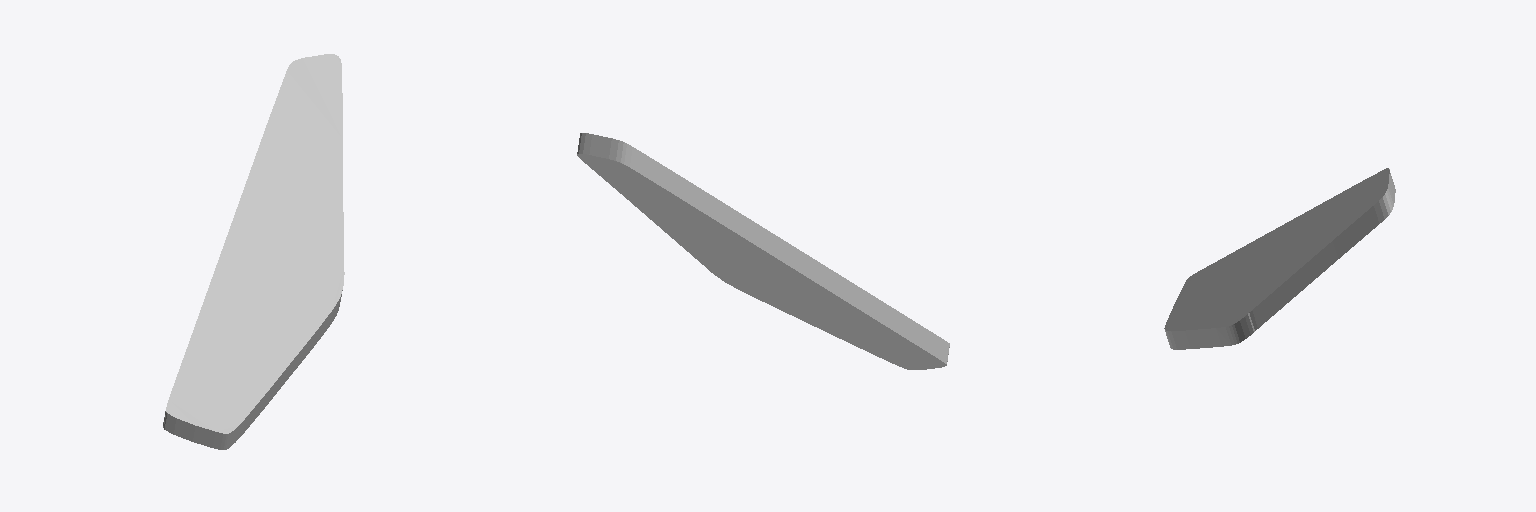
File: Project Name.obj
3 views of the same model, side by side, from view 1: azimuth 30°, elevation 25°; view 2: azimuth 150°, elevation 25°; view 3: azimuth 270°, elevation 25° (orthographic).
Parts seen in each view (by area): view 1: 000_pane; view 2: 000_pane; view 3: 000_pane.
Boxes of the visible parts, <box> form: 000_pane: <box>163,54,344,449</box>; 000_pane: <box>577,133,949,369</box>; 000_pane: <box>1164,168,1395,349</box>.
Bounding box in the file's own units: 12 × 11.21 × 8.83.